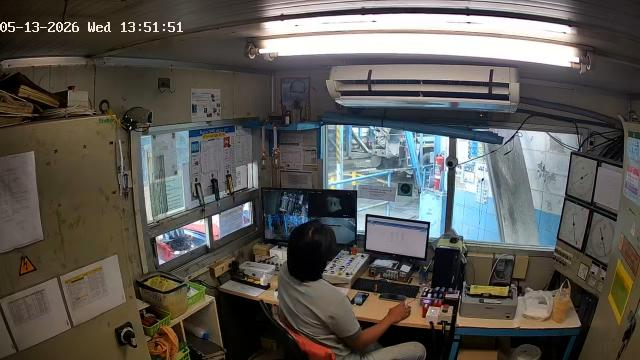Head: (287, 221, 336, 281)
People: (278, 221, 425, 359)
Phone: (379, 293, 406, 302), (351, 292, 369, 305)
